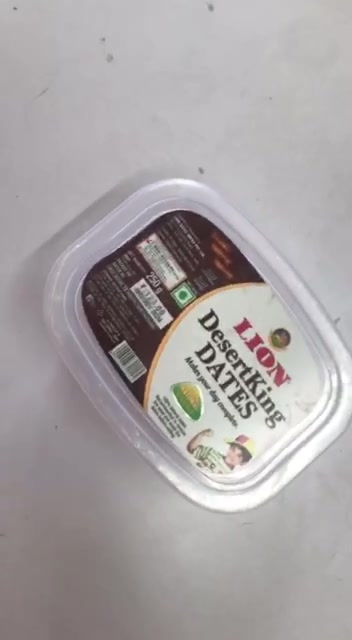Lion dates: (47, 177, 352, 514)
